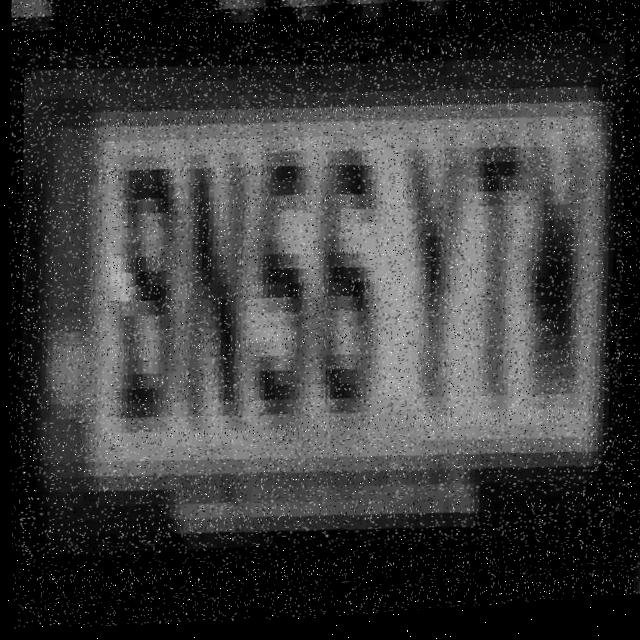LicensePlate: (6, 18, 634, 578)
